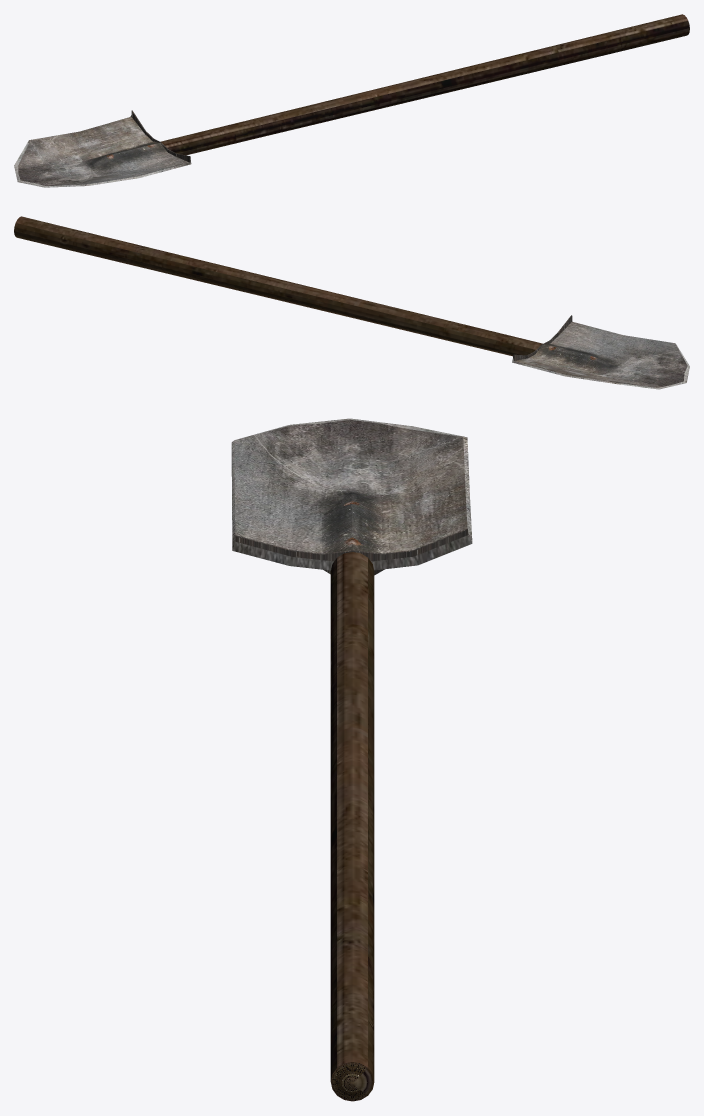
Rendered from LOPATA2.glb.
The picture shows the model from 3 angles, top to bottom: view 1: azimuth 30°, elevation 25°; view 2: azimuth 150°, elevation 25°; view 3: azimuth 270°, elevation 25°; orthographic projection. The views are drawn at different scales.
Visible parts, largest first — view 1: LOPATA2; view 2: LOPATA2; view 3: LOPATA2.
Boxes of the visible parts, x1,y1,x2,y2 form: LOPATA2: (14, 14, 689, 187); LOPATA2: (14, 216, 689, 389); LOPATA2: (231, 418, 472, 1101).
Bounding box in the file's own units: 1.29 × 0.0571 × 0.2003.
Materials: 2 (2 with a texture image).
